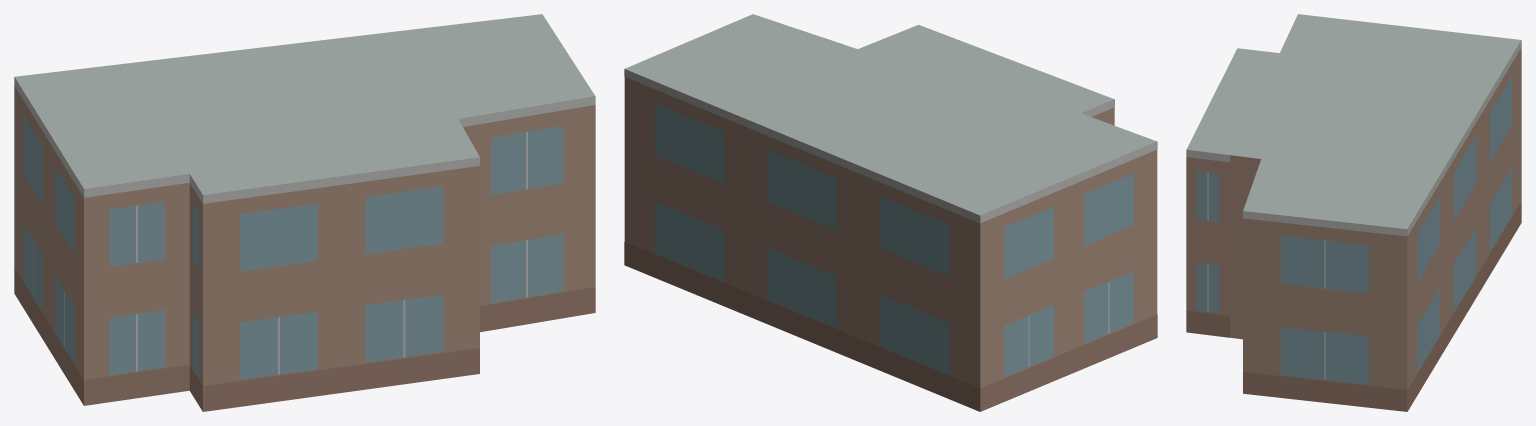
The model's file is survey-upis-32497854.glb.
3 renders of one model, left to right at view 1: azimuth 30°, elevation 25°; view 2: azimuth 150°, elevation 25°; view 3: azimuth 270°, elevation 25°, orthographic. The views are drawn at different scales.
Visible parts, largest first — view 1: survey-upis-32497854.tmp; view 2: survey-upis-32497854.tmp; view 3: survey-upis-32497854.tmp.
Part boxes in pixels (left/top/right/bottom): survey-upis-32497854.tmp: left=14, top=14, right=595, bottom=411; survey-upis-32497854.tmp: left=624, top=14, right=1157, bottom=411; survey-upis-32497854.tmp: left=1186, top=14, right=1521, bottom=411.
Bounding box in the file's own units: 15.43 × 6.1 × 10.16.
